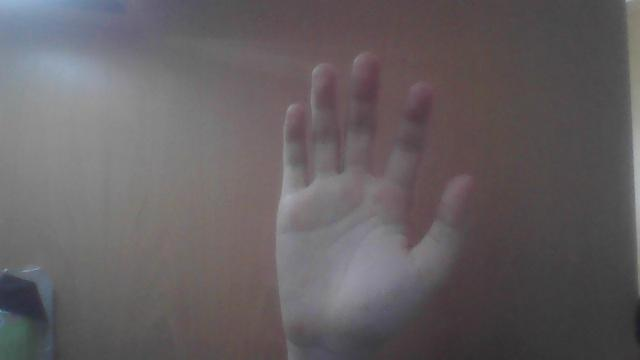Stop: (278, 54, 464, 358)
